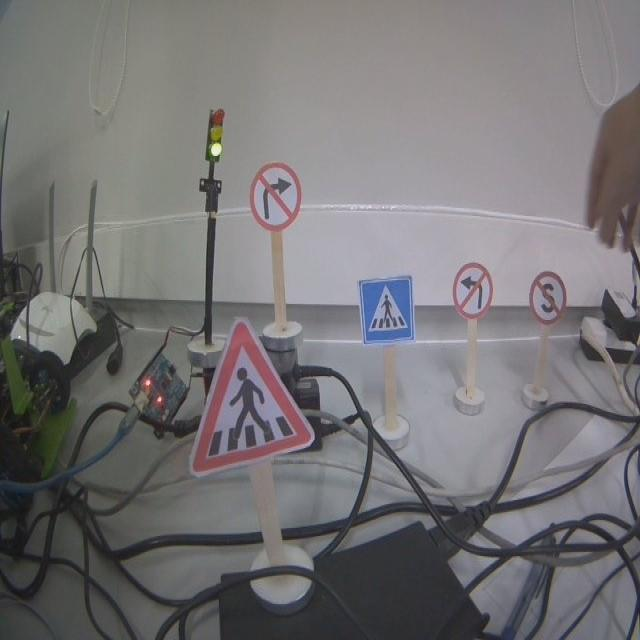Dilarang Belok Kanan: (250, 163, 301, 229)
Dilarang Belok Kiri: (453, 262, 493, 318)
Lampu Hijau: (205, 108, 224, 161)
Rambu Berhenti: (528, 272, 565, 324)
Rambu Penyebrangan: (190, 318, 313, 474), (358, 275, 416, 345)
